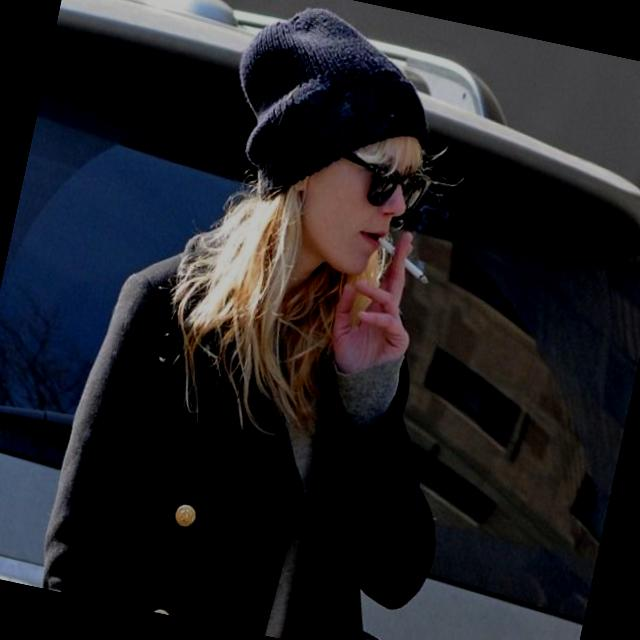smoke: (366, 236, 440, 280)
